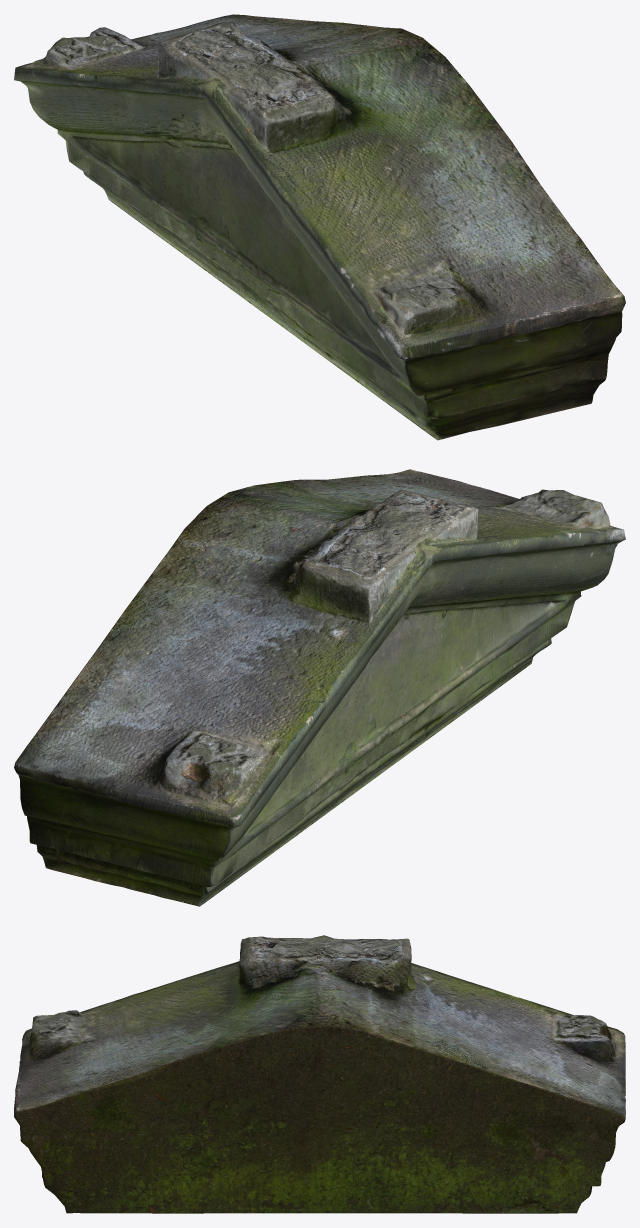
Rendered from sm_GraveDebris_07_01.fbx.
The picture shows the model from 3 angles, top to bottom: view 1: azimuth 30°, elevation 25°; view 2: azimuth 150°, elevation 25°; view 3: azimuth 270°, elevation 25°; orthographic projection. The views are drawn at different scales.
Parts seen in each view (by area): view 1: sm_GraveDebris_07_01_LOD0; view 2: sm_GraveDebris_07_01_LOD0; view 3: sm_GraveDebris_07_01_LOD0.
Part boxes in pixels (x1,y1,x2,y2): sm_GraveDebris_07_01_LOD0: [14, 14, 625, 440]; sm_GraveDebris_07_01_LOD0: [14, 469, 625, 906]; sm_GraveDebris_07_01_LOD0: [14, 935, 625, 1213].
Size of the model in its own units: 76.95 by 231 by 85.22.
